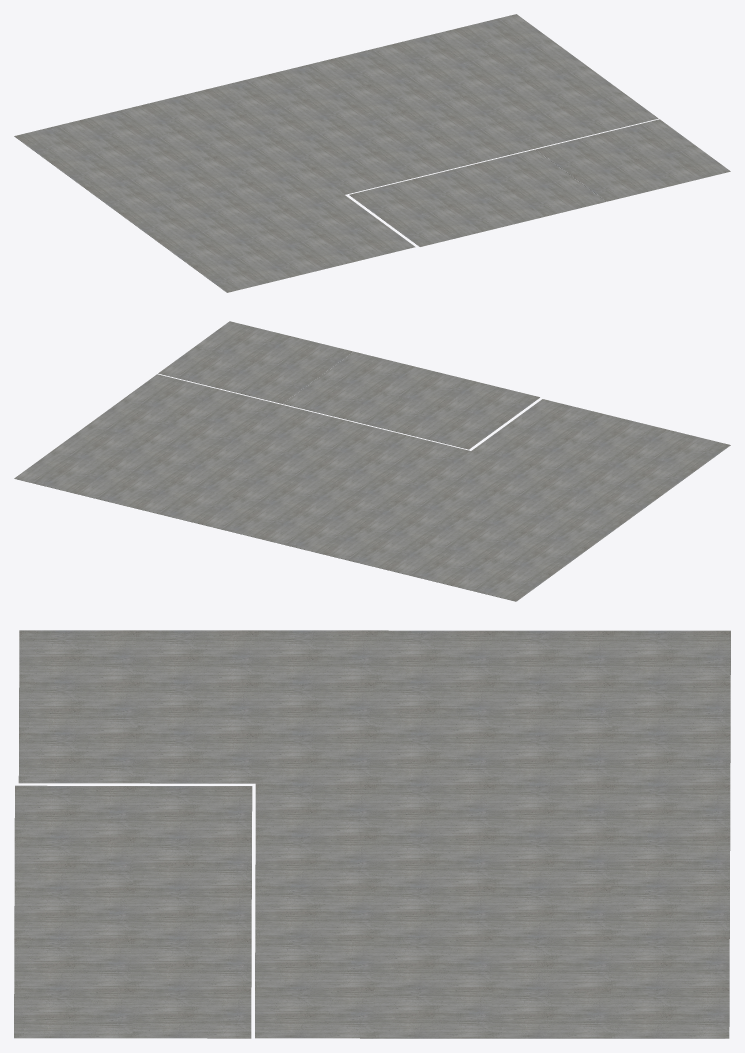
File: pol.glb
3 views of the same model, one above another, from view 1: azimuth 30°, elevation 25°; view 2: azimuth 150°, elevation 25°; view 3: azimuth 270°, elevation 25° (orthographic). The views are drawn at different scales.
Visible parts, largest first — view 1: Куб; view 2: Куб; view 3: Куб.
Part boxes in pixels (x1,y1,x2,y2): Куб: (14, 14, 730, 292); Куб: (14, 321, 730, 601); Куб: (14, 630, 730, 1038).
Bounding box in the file's own units: 717 × 0.2023 × 533.
4 materials, 4 textured.
